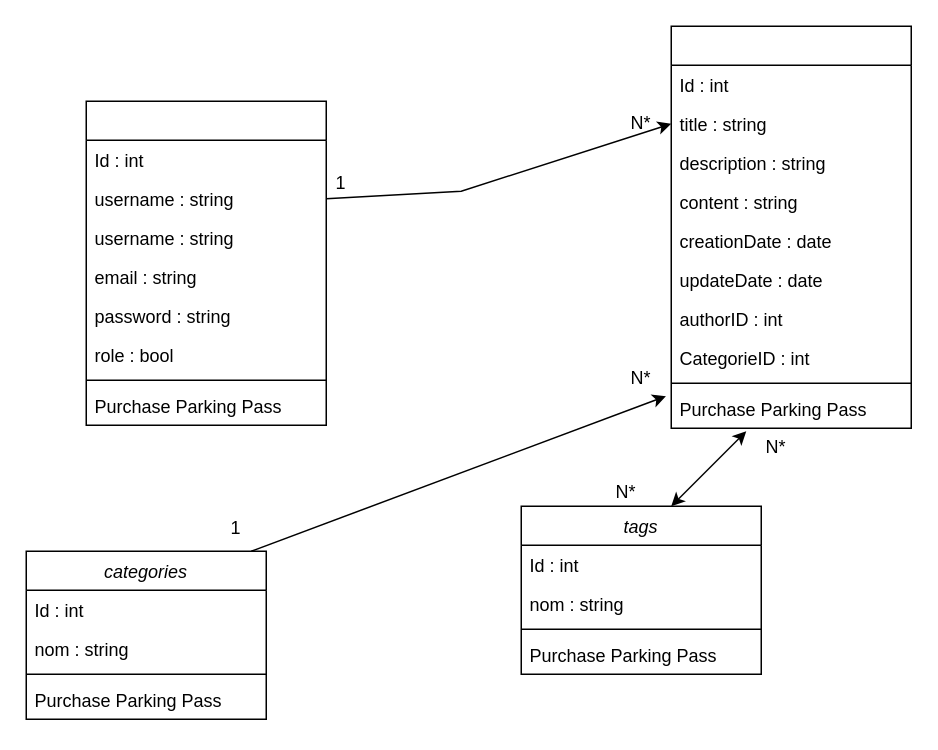
This 938x750 diagram has some shape labels left out. Each missing label, with the box of its shape:
Users: (85, 100, 326, 425)
wikis: (670, 25, 911, 428)
